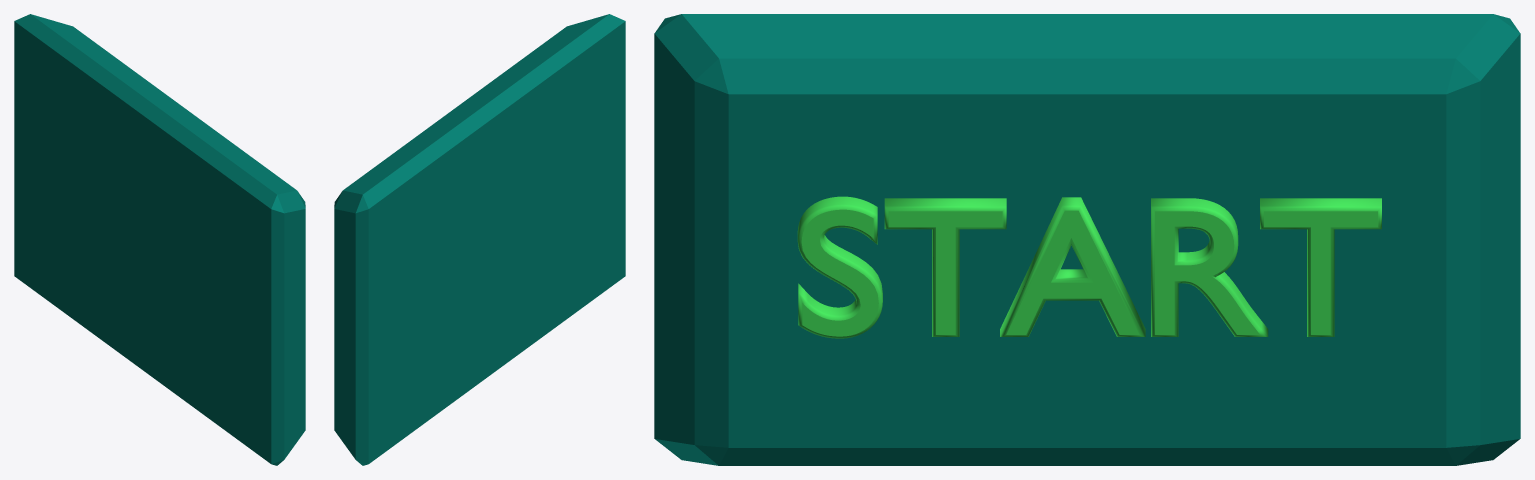
The picture shows the model from 3 angles, left to right: view 1: azimuth 30°, elevation 25°; view 2: azimuth 150°, elevation 25°; view 3: azimuth 270°, elevation 25°; orthographic projection. The views are drawn at different scales.
Parts seen in each view (by area): view 1: Cube.001-col; view 2: Cube.001-col; view 3: Cube.001-col, Text.
Part boxes in pixels (x1,y1,x2,y2): Cube.001-col: (14,14,305,465); Cube.001-col: (334,14,625,465); Cube.001-col: (654,14,1520,465); Text: (797,196,1381,338).
Bounding box in the file's own units: 0.5572 × 2.21 × 3.9.
